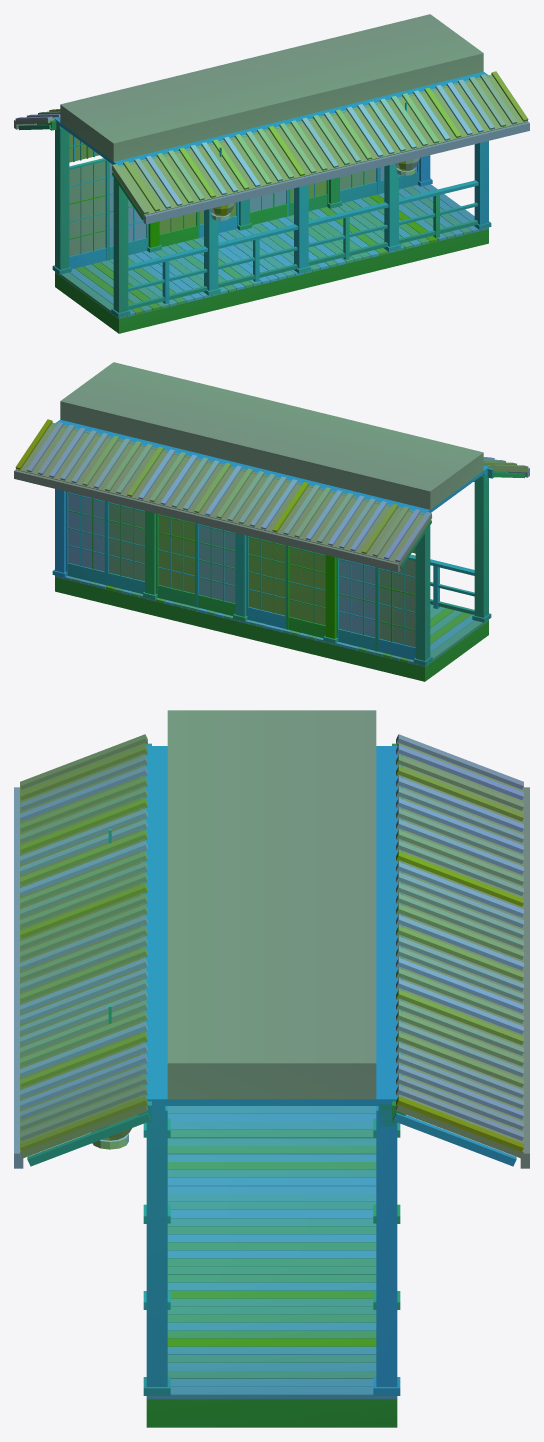
The model's file is B_corr_a.glb.
3 renders of one model, top to bottom at view 1: azimuth 30°, elevation 25°; view 2: azimuth 150°, elevation 25°; view 3: azimuth 270°, elevation 25°, orthographic. The views are drawn at different scales.
Visible parts, largest first — view 1: B_corr_a; view 2: B_corr_a; view 3: B_corr_a.
Boxes of the visible parts, x1,y1,x2,y2 form: B_corr_a: (14,14,529,333); B_corr_a: (14,362,529,681); B_corr_a: (14,710,529,1427).
Size of the model in its own units: 8.3 by 3.85 by 4.94.
